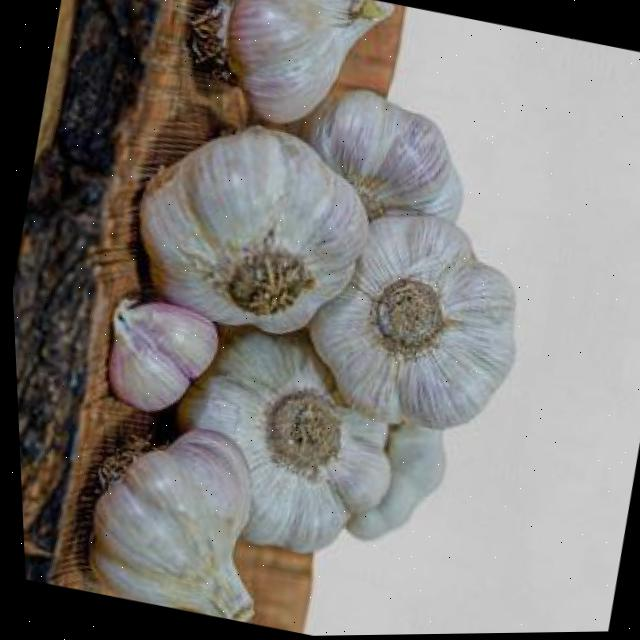Wet: (152, 291, 422, 572), (117, 106, 387, 354), (290, 194, 540, 449), (56, 408, 287, 627), (278, 77, 486, 258), (175, 0, 401, 146), (82, 293, 222, 422)
